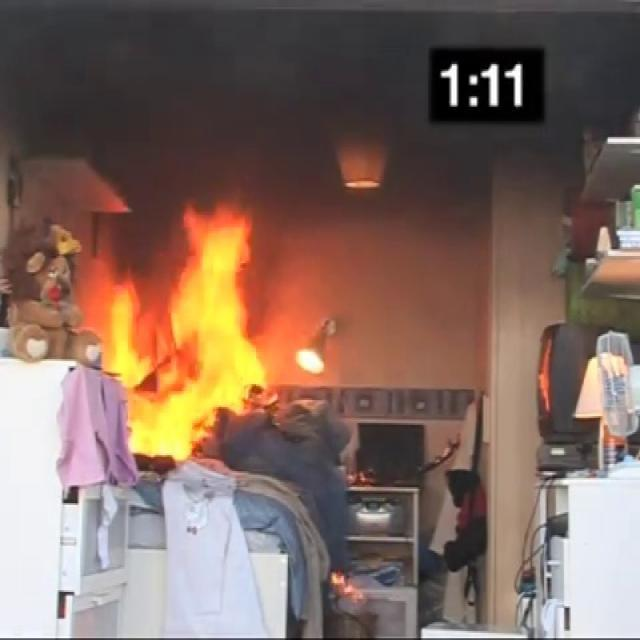Fire: (88, 198, 268, 462)
Smoke: (2, 3, 640, 184)
